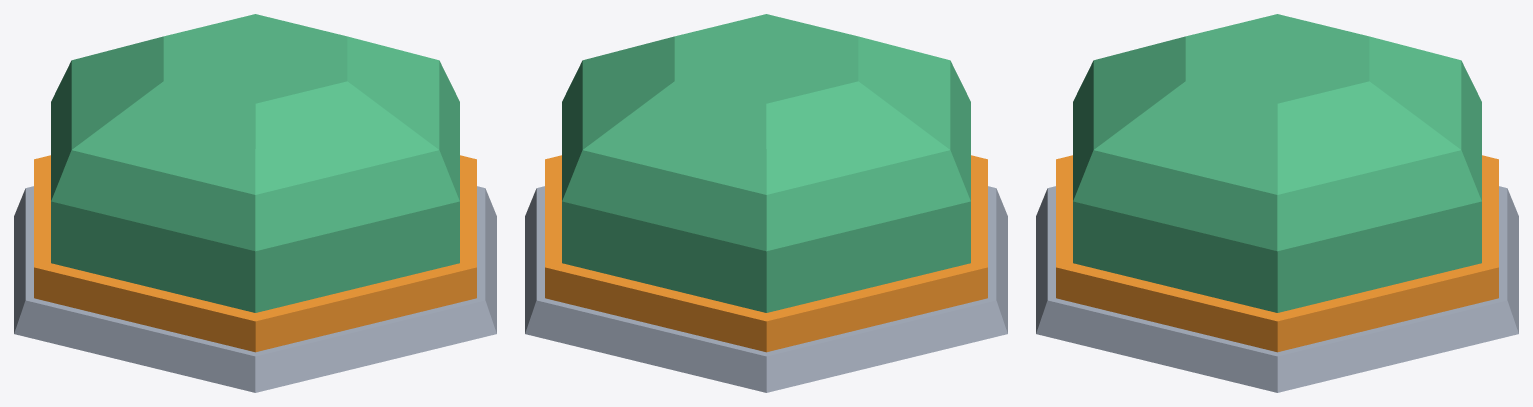
File: greenhouse_dome.obj
3 views of the same model, side by side, from view 1: azimuth 30°, elevation 25°; view 2: azimuth 150°, elevation 25°; view 3: azimuth 270°, elevation 25° (orthographic).
Visible parts, largest first — view 1: hangar_roundGlass; view 2: hangar_roundGlass; view 3: hangar_roundGlass.
Boxes of the visible parts, bbox=[...] form: hangar_roundGlass: bbox=[14, 14, 496, 392]; hangar_roundGlass: bbox=[525, 14, 1007, 392]; hangar_roundGlass: bbox=[1036, 14, 1518, 392].
Size of the model in its own units: 3.27 by 1.4 by 2.83.
